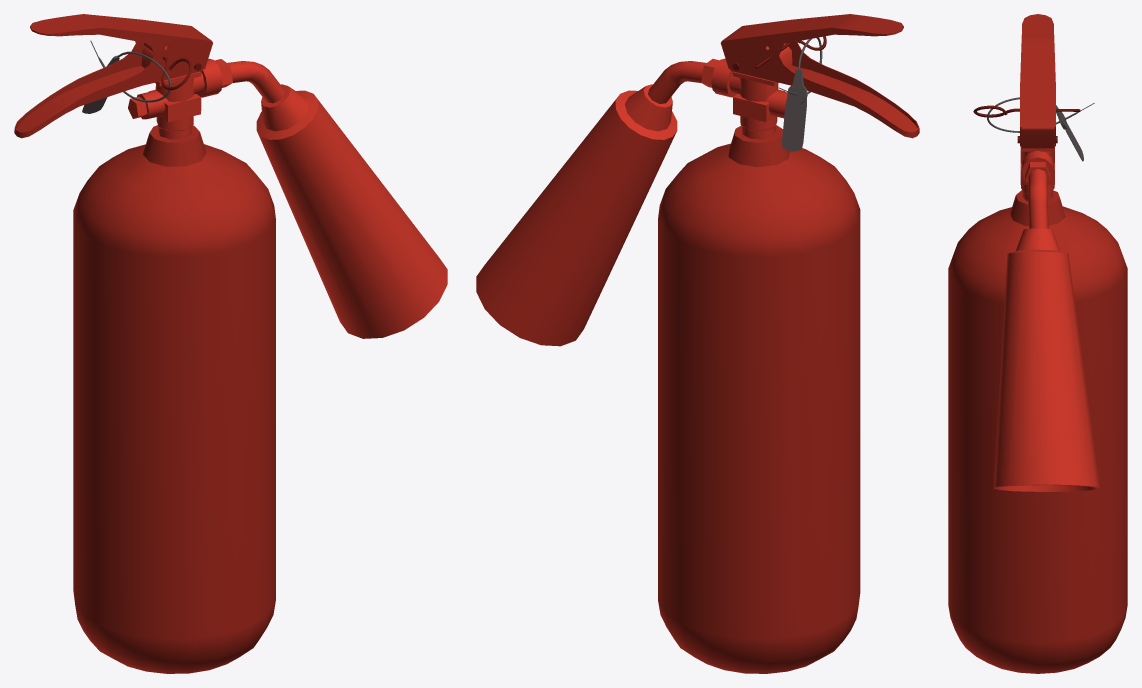
3 views of the same model, side by side, from view 1: azimuth 30°, elevation 25°; view 2: azimuth 150°, elevation 25°; view 3: azimuth 270°, elevation 25° (orthographic). The views are drawn at different scales.
Parts seen in each view (by area): view 1: FE_01_low, FE_02_low, FE_03_low, FE_05_low; view 2: FE_01_low, FE_02_low, FE_03_low, FE_05_low; view 3: FE_01_low, FE_02_low, FE_03_low, FE_05_low, FE_04_low.
Part boxes in pixels (bbox=[...]): FE_01_low: bbox=[14, 41, 284, 673]; FE_02_low: bbox=[128, 43, 447, 338]; FE_03_low: bbox=[30, 14, 212, 70]; FE_05_low: bbox=[82, 40, 171, 113]; FE_01_low: bbox=[648, 41, 919, 673]; FE_02_low: bbox=[476, 43, 792, 346]; FE_03_low: bbox=[720, 14, 903, 71]; FE_05_low: bbox=[779, 37, 822, 151]; FE_01_low: bbox=[948, 169, 1127, 673]; FE_02_low: bbox=[993, 143, 1099, 491]; FE_03_low: bbox=[1020, 14, 1055, 148]; FE_05_low: bbox=[987, 97, 1094, 161]; FE_04_low: bbox=[973, 105, 1080, 143].
Size of the model in its own units: 23.54 by 34.85 by 9.7.
